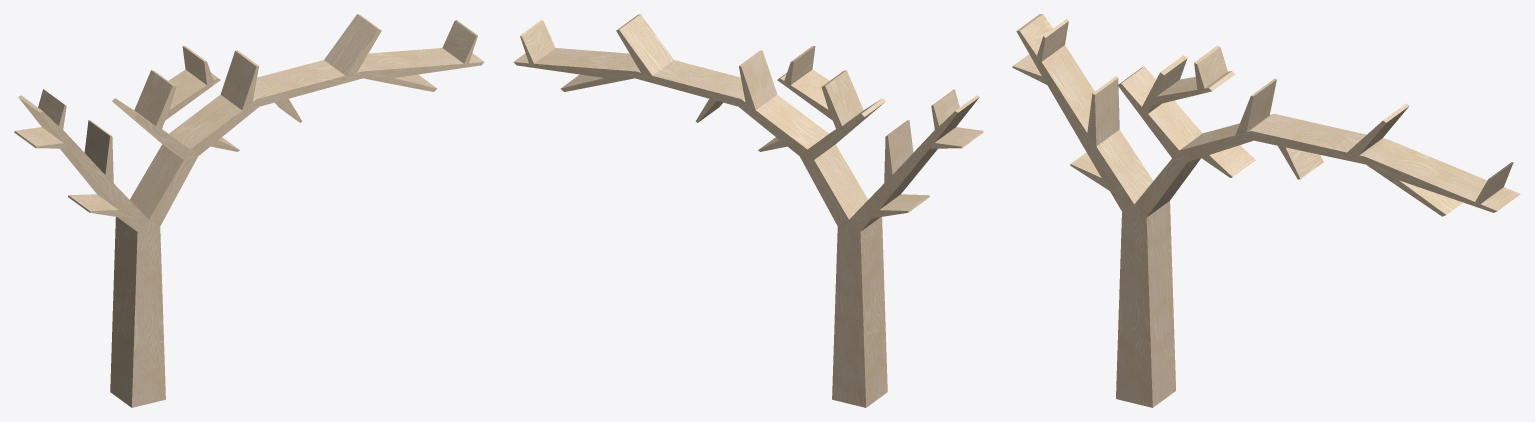
Rendered from shelf_009.fbx.
3 views of the same model, side by side, from view 1: azimuth 30°, elevation 25°; view 2: azimuth 150°, elevation 25°; view 3: azimuth 330°, elevation 25° (orthographic). The views are drawn at different scales.
Parts seen in each view (by area): view 1: shelf_009; view 2: shelf_009; view 3: shelf_009.
Part boxes in pixels (box(x1,y1,x2,y2)): shelf_009: box(14, 14, 484, 407); shelf_009: box(513, 14, 983, 407); shelf_009: box(1012, 14, 1520, 407).
Size of the model in its own units: 349 by 29.11 by 244.
